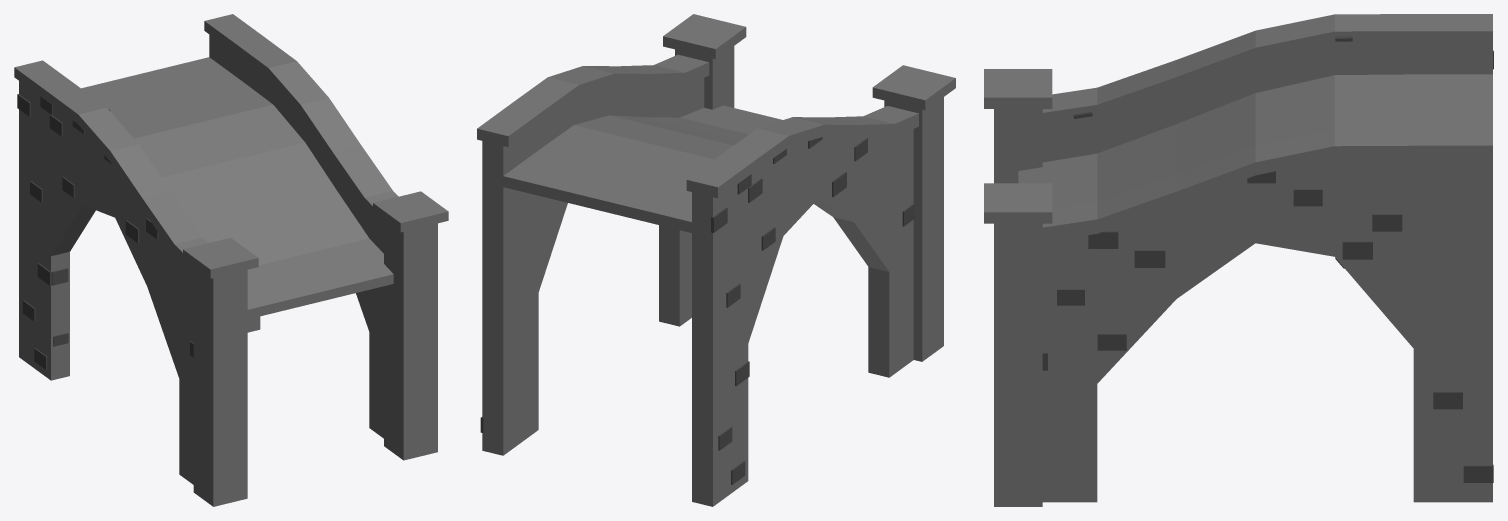
Rendered from StoneBridge01_ramp.fbx.
3 renders of one model, left to right at view 1: azimuth 30°, elevation 25°; view 2: azimuth 150°, elevation 25°; view 3: azimuth 270°, elevation 25°, orthographic. The views are drawn at different scales.
Parts seen in each view (by area): view 1: BridgeRamp; view 2: BridgeRamp; view 3: BridgeRamp.
Boxes of the visible parts, x1,y1,x2,y2 form: BridgeRamp: (14,14,448,506); BridgeRamp: (477,14,955,506); BridgeRamp: (984,14,1493,506).
Size of the model in its own units: 1002 by 1170 by 1504.
